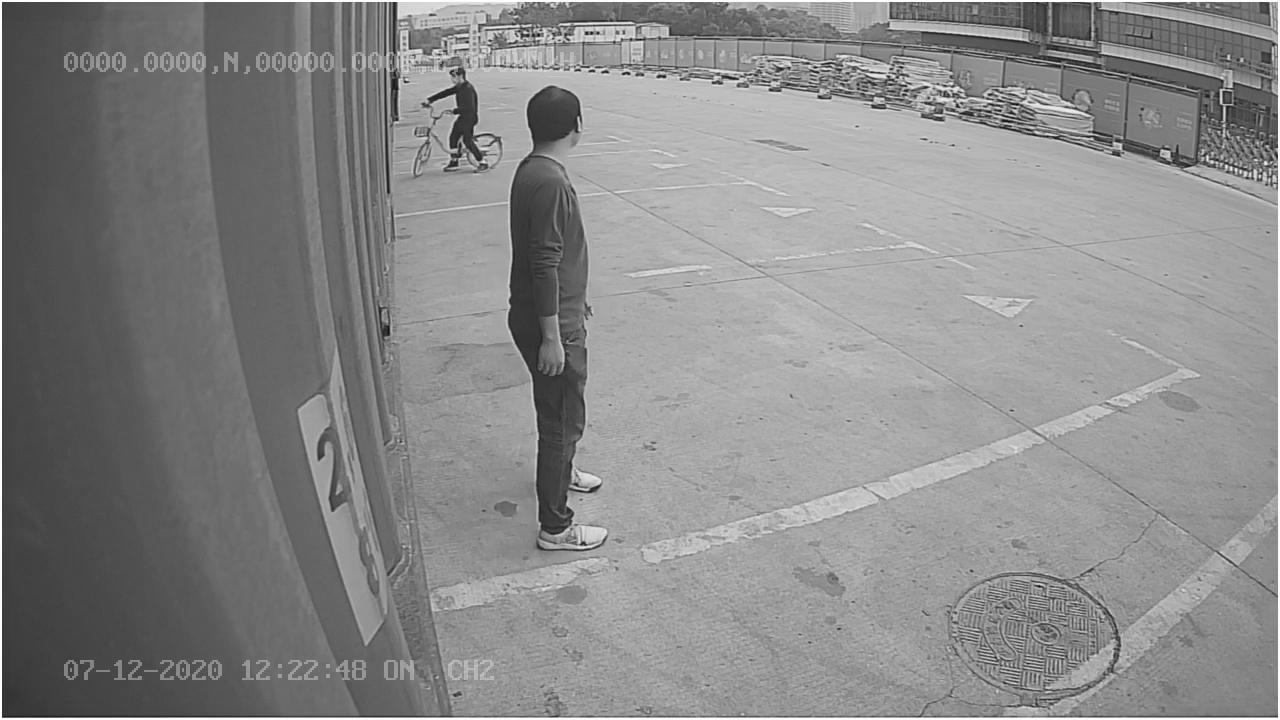person: (501, 78, 611, 552)
